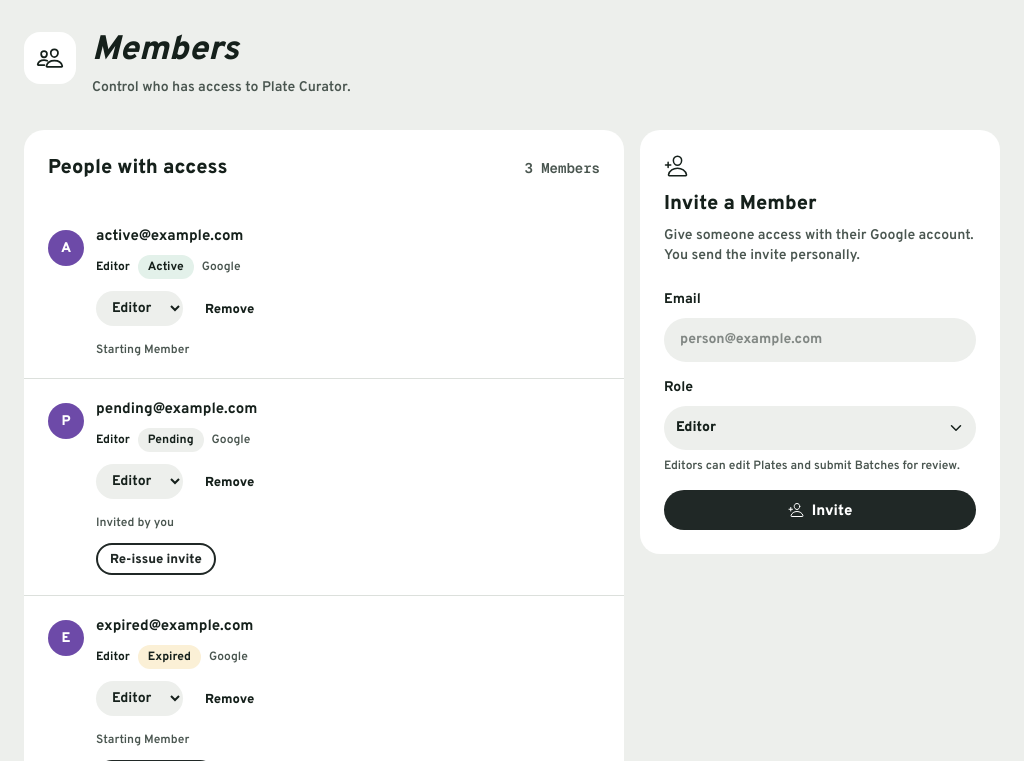
Test: last-Owner refusal for role is readable and returns focus
Step 1. Select "Owner" in the dropdown named "Role for active@example.com" below "active@example.com" → (140, 308), box [96, 291, 183, 326]
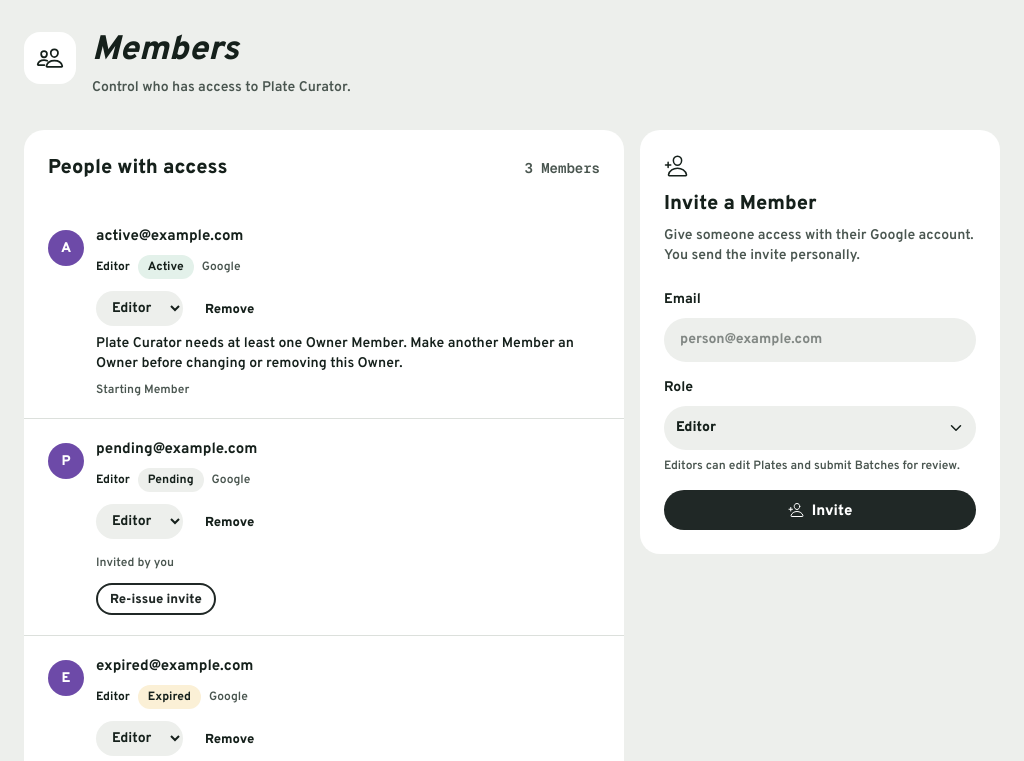
Result: the message shows "at least one Owner Member" at [96, 335, 574, 372]
